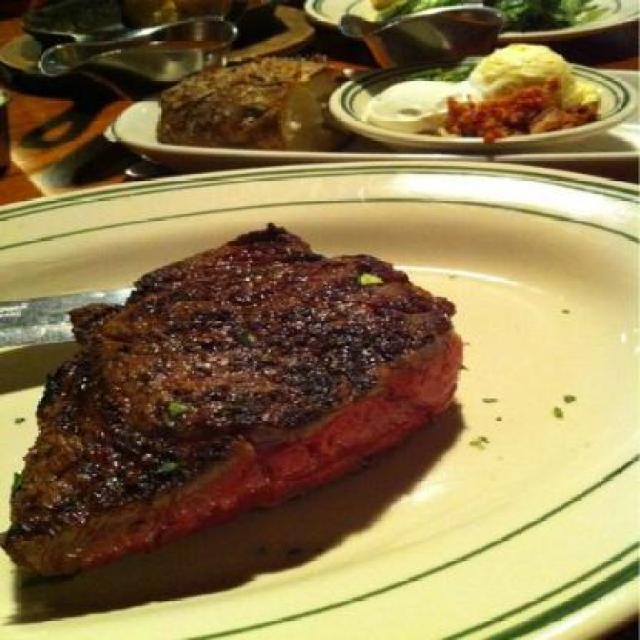Steak: (32, 232, 470, 565)
